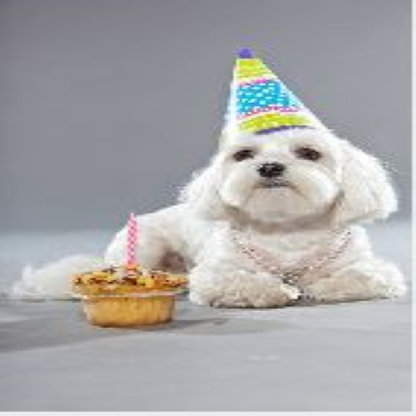maltese: (35, 39, 404, 307)
